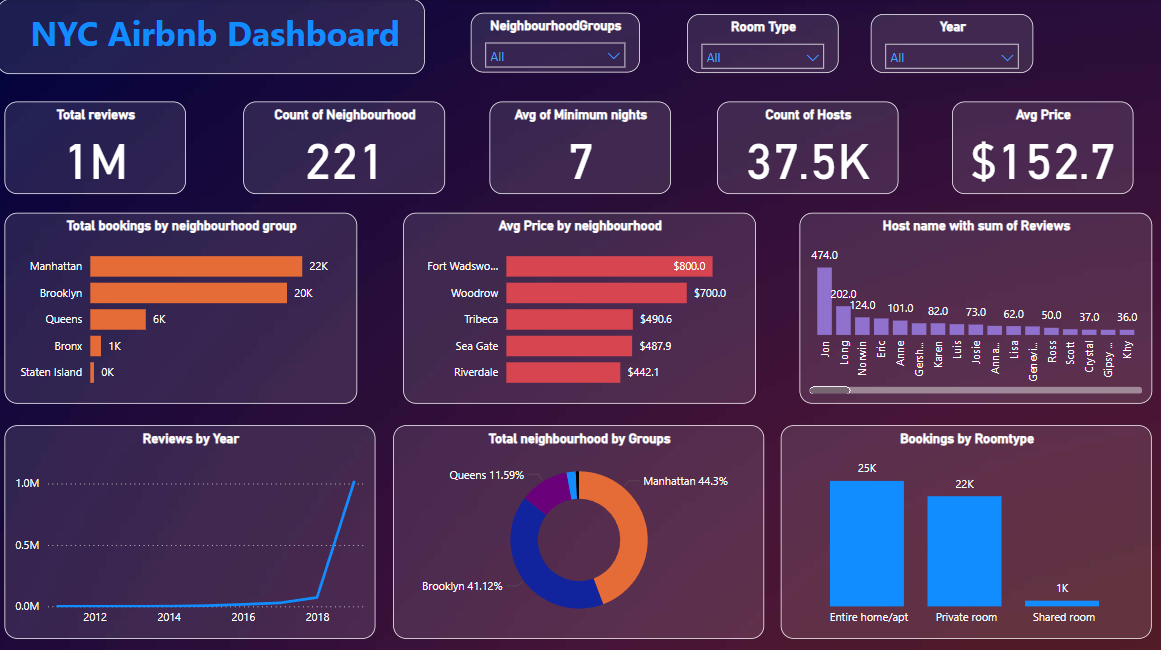

What the dashboard file says about the page in this screenshot:
{"tool":"powerbi","page":{"name":"Page 1","canvas":[1280,720],"ordinal":0},"visuals":[{"type":"slicer","title":"NeighbourhoodGroups","fields":{"Values":["AB_NYC_2019.neighbourhood_group"]},"box":[520.1,15.1,185.2,65.9],"z":0},{"type":"textbox","box":[0,0,469.3,82],"z":1},{"type":"slicer","title":"Room Type","fields":{"Values":["AB_NYC_2019.room_type"]},"box":[757.6,16.9,166.5,65.1],"z":2},{"type":"slicer","title":"Year","fields":{"Values":["AB_NYC_2019.last_review.Variation.Date Hierarchy.Year"]},"box":[959.1,16.9,178.6,65.1],"z":3},{"type":"card","title":"Total reviews","fields":{"Values":["AB_NYC_2019.number_of_reviews"]},"box":[8.4,112.2,199.1,101.3],"z":4},{"type":"card","title":"Count of Neighbourhood","fields":{"Values":["AB_NYC_2019.neighbourhood"]},"box":[270.2,112.2,222,101.3],"z":5},{"type":"card","title":"Avg of Minimum nights","fields":{"Values":["AB_NYC_2019.minimum_nights"]},"box":[540.5,112.2,199.1,101.3],"z":6},{"type":"card","title":"Count of Hosts","fields":{"Values":["AB_NYC_2019.host_id"]},"box":[790.2,112.2,199.1,101.3],"z":7},{"type":"lineChart","title":"Reviews by Year","fields":{"Category":["AB_NYC_2019.last_review.Variation.Date Hierarchy.Year"],"Y":["AB_NYC_2019.number_of_reviews"]},"box":[8.2,467.9,407.5,234.6],"z":8},{"type":"clusteredBarChart","title":"Total bookings by neighbourhood group","fields":{"Category":["AB_NYC_2019.neighbourhood_group"],"Y":["AB_NYC_2019.name"]},"box":[8.4,234,387.3,209.9],"z":9},{"type":"clusteredBarChart","title":"Avg Price by neighbourhood ","fields":{"Category":["AB_NYC_2019.neighbourhood"],"Y":["AB_NYC_2019.price"]},"box":[446.4,234,387.3,209.9],"z":10},{"type":"card","title":"Avg Price","fields":{"Values":["AB_NYC_2019.price"]},"box":[1048.4,112.5,199,101.5],"z":11},{"type":"columnChart","title":" Host name with sum of Reviews","fields":{"Category":["AB_NYC_2019.host_name"],"Y":["AB_NYC_2019.number_of_reviews"]},"box":[880.7,234,387.3,209.9],"z":12},{"type":"donutChart","title":"Total neighbourhood by Groups","fields":{"Category":["AB_NYC_2019.neighbourhood_group"],"Y":["AB_NYC_2019.neighbourhood"]},"box":[435,467.9,407.5,234.6],"z":13},{"type":"clusteredColumnChart","title":"Bookings by Roomtype","fields":{"Category":["AB_NYC_2019.room_type"],"Y":["AB_NYC_2019.name"]},"box":[860.4,467.9,407.5,234.6],"z":14}]}

Visuals, with their boxes in screenshot pixels (x1, y1, x2, y2), scaled from the page's 1280x720 canvas onto the 1161x650 screenshot:
"NeighbourhoodGroups" slicer: <bbox>472, 14, 640, 73</bbox>
textbox: <bbox>0, 0, 426, 74</bbox>
"Room Type" slicer: <bbox>687, 15, 838, 74</bbox>
"Year" slicer: <bbox>870, 15, 1032, 74</bbox>
"Total reviews" card: <bbox>8, 101, 188, 193</bbox>
"Count of Neighbourhood" card: <bbox>245, 101, 446, 193</bbox>
"Avg of Minimum nights" card: <bbox>490, 101, 671, 193</bbox>
"Count of Hosts" card: <bbox>717, 101, 897, 193</bbox>
"Reviews by Year" lineChart: <bbox>7, 422, 377, 634</bbox>
"Total bookings by neighbourhood group" clusteredBarChart: <bbox>8, 211, 359, 401</bbox>
"Avg Price by neighbourhood " clusteredBarChart: <bbox>405, 211, 756, 401</bbox>
"Avg Price" card: <bbox>951, 102, 1131, 193</bbox>
" Host name with sum of Reviews" columnChart: <bbox>799, 211, 1150, 401</bbox>
"Total neighbourhood by Groups" donutChart: <bbox>395, 422, 764, 634</bbox>
"Bookings by Roomtype" clusteredColumnChart: <bbox>780, 422, 1150, 634</bbox>
